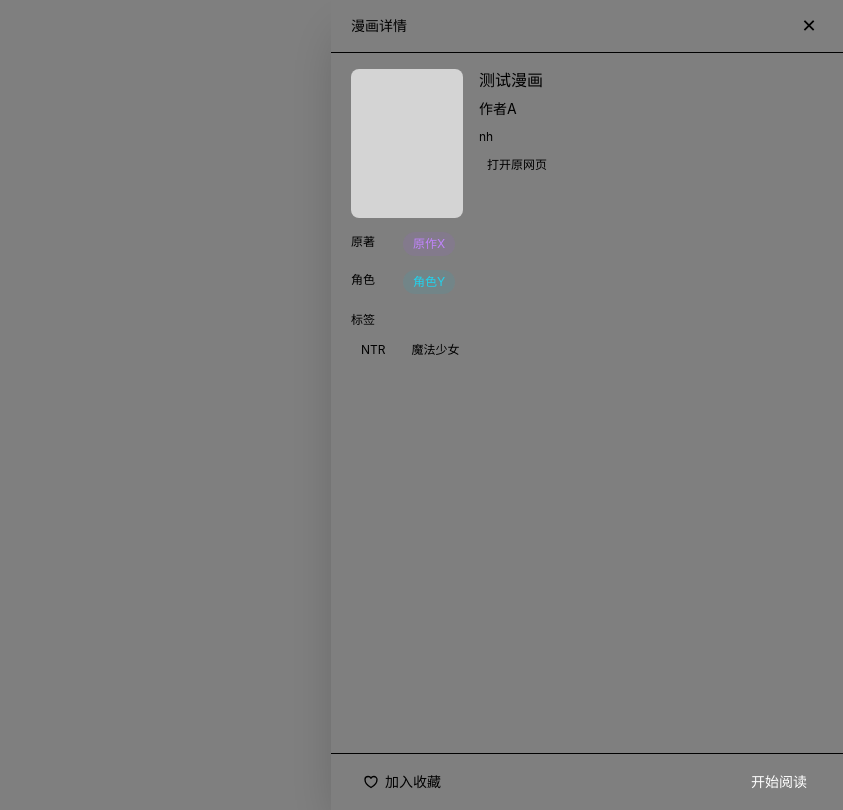
Test: ComicInfoDrawer - 收藏状态提交 › NH 收藏认证失效时恢复原状态并提示登录
Click the button "加入收藏": (402, 782) left=351, top=766, right=453, bottom=798
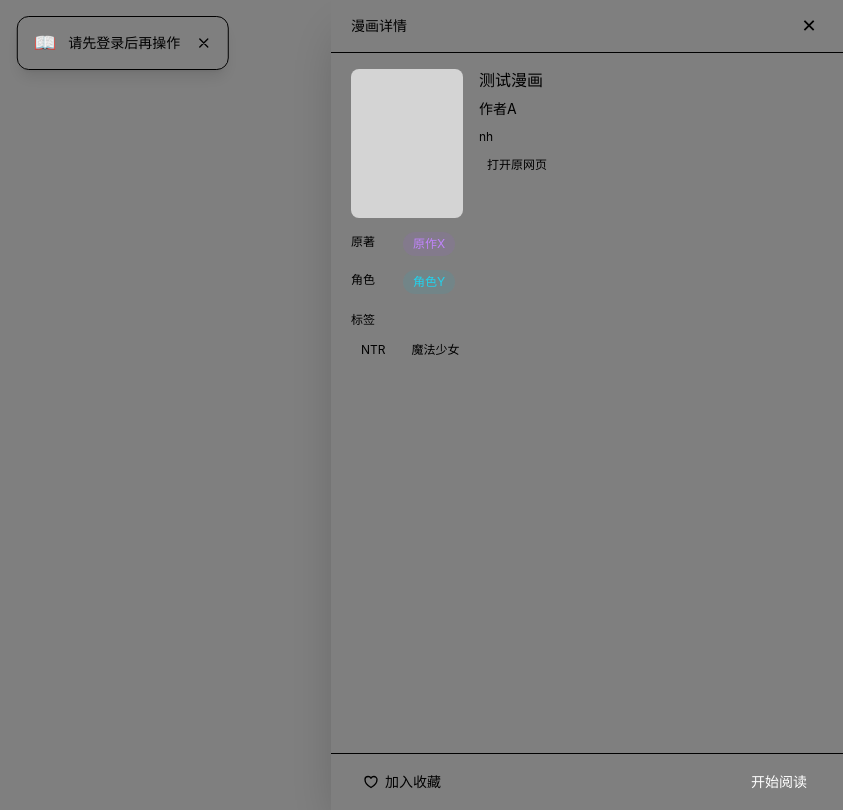
Now the text "请先登录后再操作" is shown, box left=68, top=33, right=180, bottom=53
